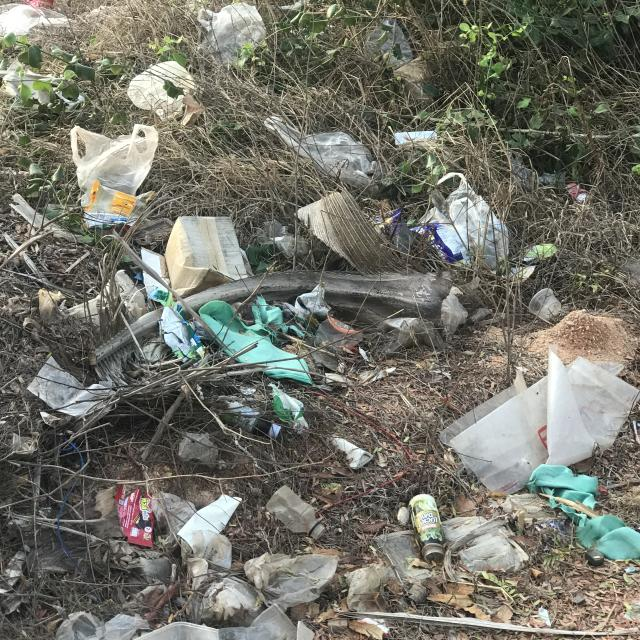Single-layer Plastic: (450, 376, 549, 494), (264, 116, 376, 188), (566, 356, 640, 451), (439, 172, 509, 270), (70, 124, 159, 196), (546, 345, 595, 466), (244, 552, 339, 610), (28, 356, 114, 418), (198, 2, 266, 64), (128, 61, 195, 120), (201, 578, 262, 626), (219, 604, 296, 640), (55, 611, 150, 640), (345, 564, 388, 611), (191, 530, 231, 569), (0, 5, 44, 36), (179, 432, 218, 464)
